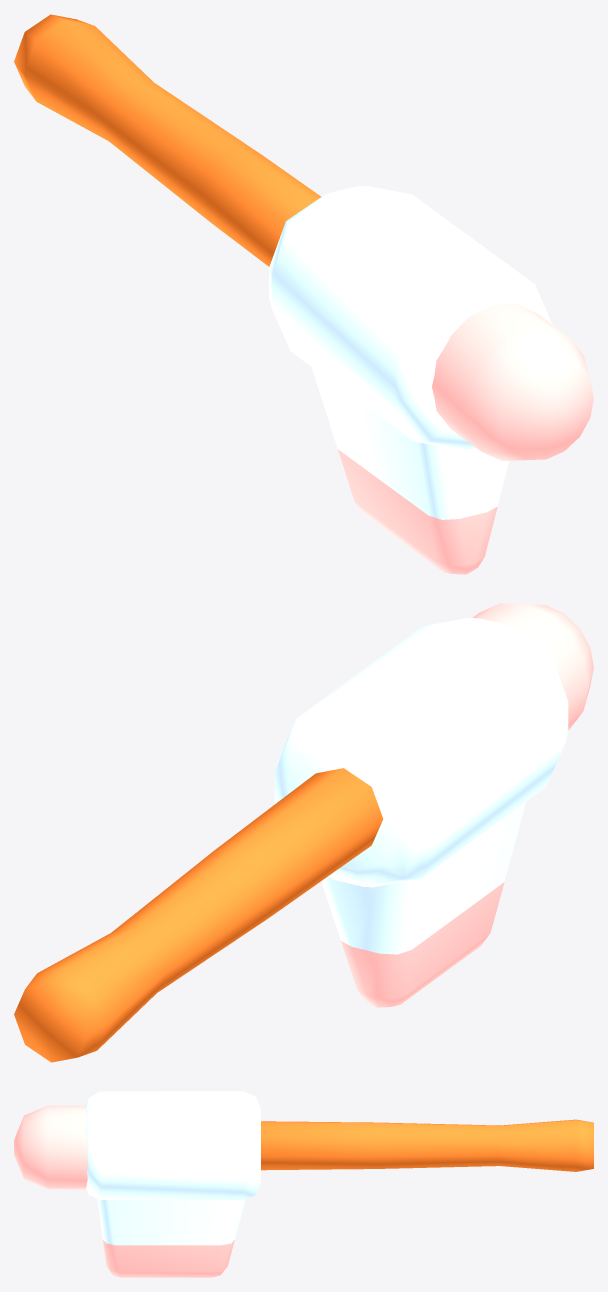
Rendered from Red-Lv3-Viking-WP.fbx.
The picture shows the model from 3 angles, top to bottom: view 1: azimuth 30°, elevation 25°; view 2: azimuth 150°, elevation 25°; view 3: azimuth 270°, elevation 25°; orthographic projection. The views are drawn at different scales.
Parts seen in each view (by area): view 1: Red-Lv3-Viking-WP; view 2: Red-Lv3-Viking-WP; view 3: Red-Lv3-Viking-WP.
Boxes of the visible parts, x1,y1,x2,y2 form: Red-Lv3-Viking-WP: [14, 14, 593, 574]; Red-Lv3-Viking-WP: [14, 603, 593, 1062]; Red-Lv3-Viking-WP: [14, 1091, 593, 1277].
Size of the model in its own units: 0.2816 by 0.5209 by 1.53.
